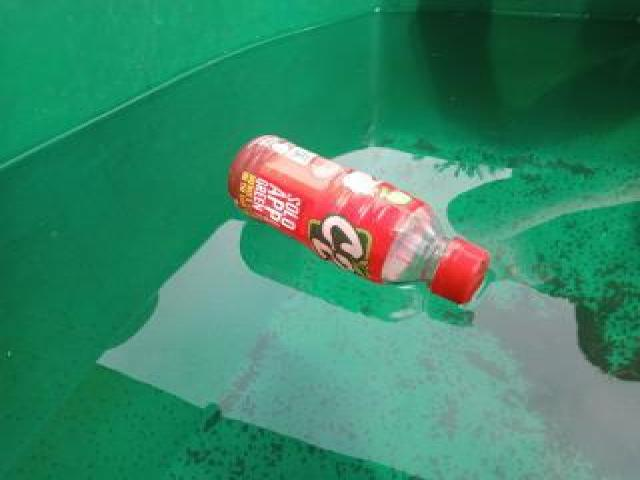Bottle: (222, 129, 498, 311)
